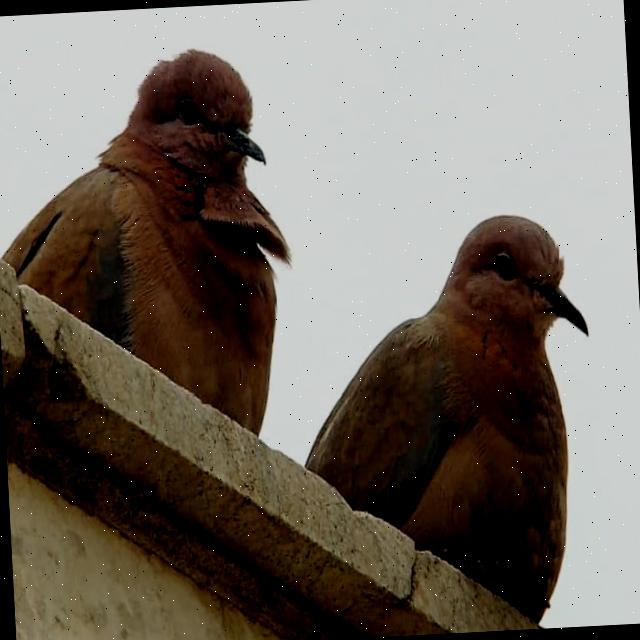dove: (296, 202, 602, 634), (0, 35, 297, 471)
